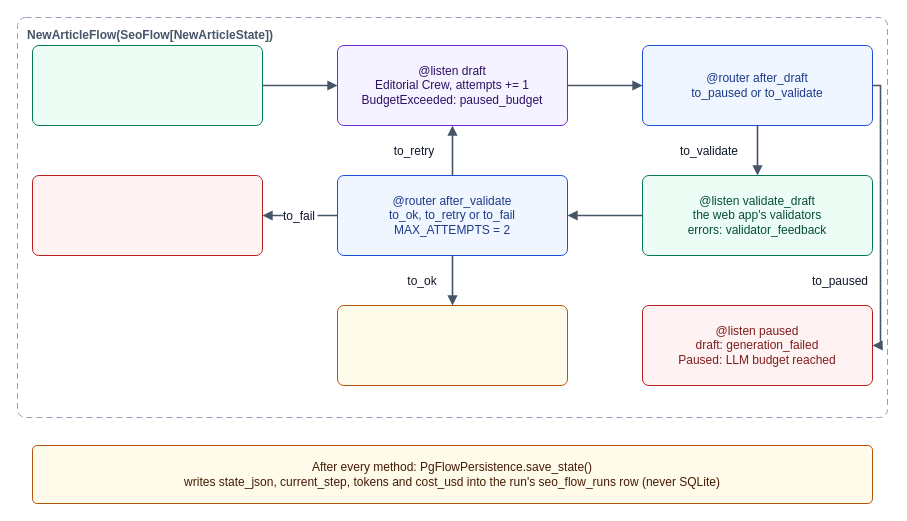
Image size: 907x521. Some labels were removed from this diagram. Here are the shapes that lost their labels. From the top down, the box of each, then its label:
(32, 44, 262, 126): @start load_brief calendar brief from the web app
(32, 174, 262, 256): @listen failed draft: generation_failed with the validator's errors
(336, 304, 568, 386): @listen save_draft the flow's only write outcome: draft_ready
